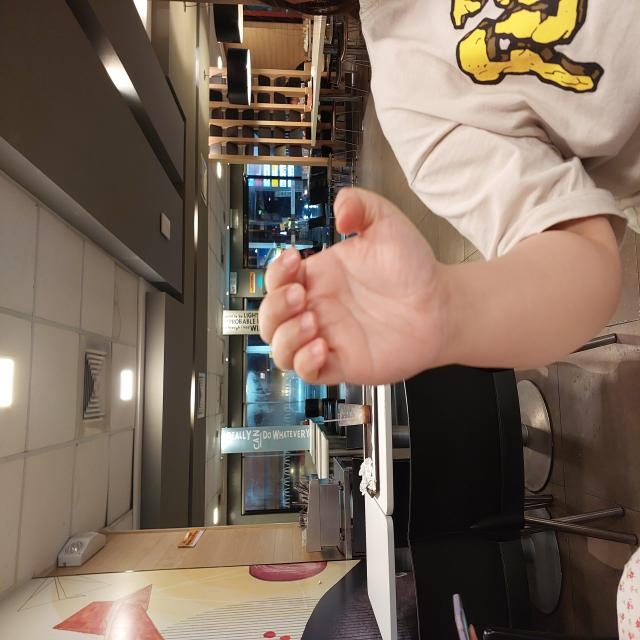E: (251, 256, 455, 442)
